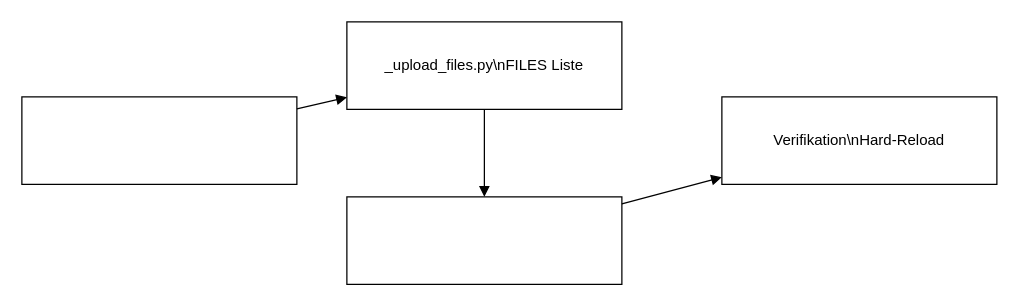
Image size: 1019x306. Some labels were removed from this diagram. Here are the shapes that lost their labels. From the top down, the centre of each, then its label:
At (x=159, y=140): "Lokale Änderungen\nJS/PHP/Config".
At (x=484, y=240): "SFTP Upload\n/www/maps".
